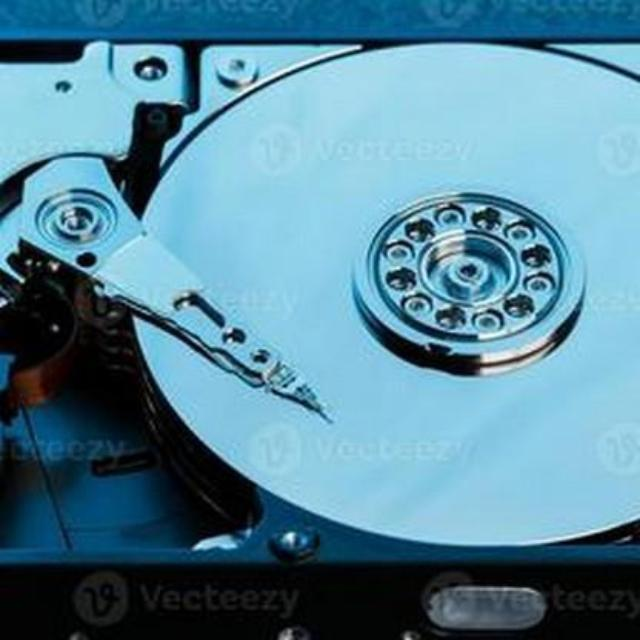DISK: (0, 29, 640, 566)
